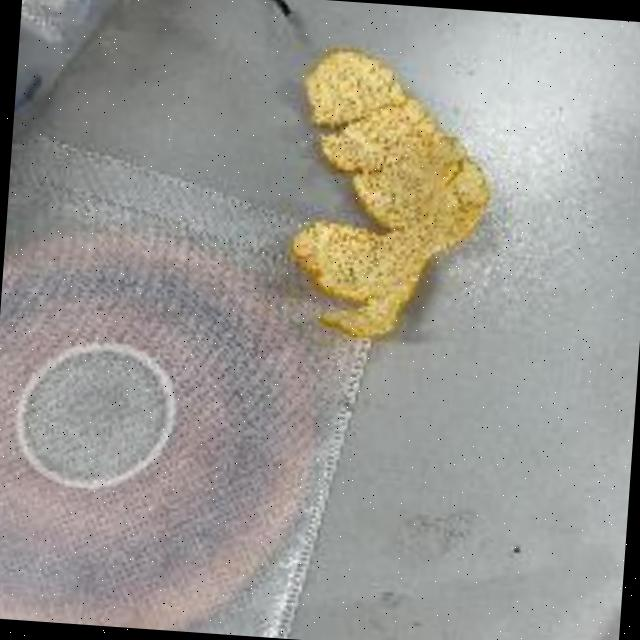orange-peel: (278, 39, 501, 350)
